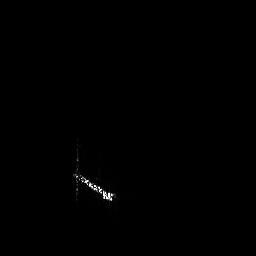ship: (72, 143, 118, 207)
